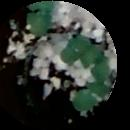Basil: (70, 82, 106, 111), (25, 0, 52, 35), (59, 37, 89, 64), (82, 46, 102, 69), (95, 59, 114, 82)
